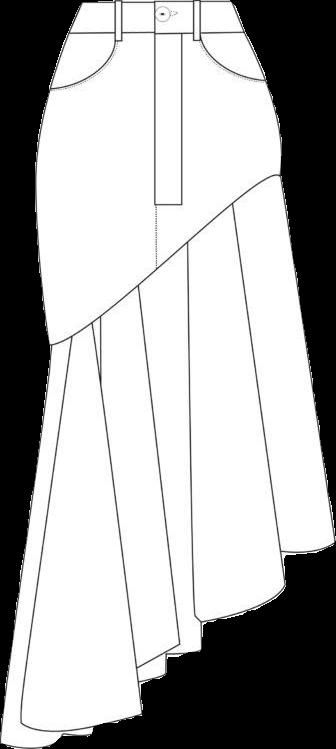Hemline: (0, 537, 335, 748)
Waistline: (46, 164, 281, 348), (67, 24, 245, 38), (79, 0, 235, 9)
